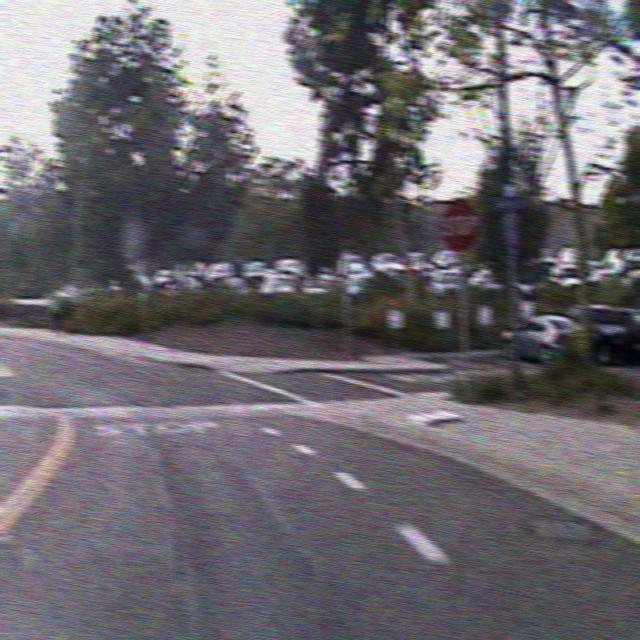stop_sign: (438, 195, 480, 253)
